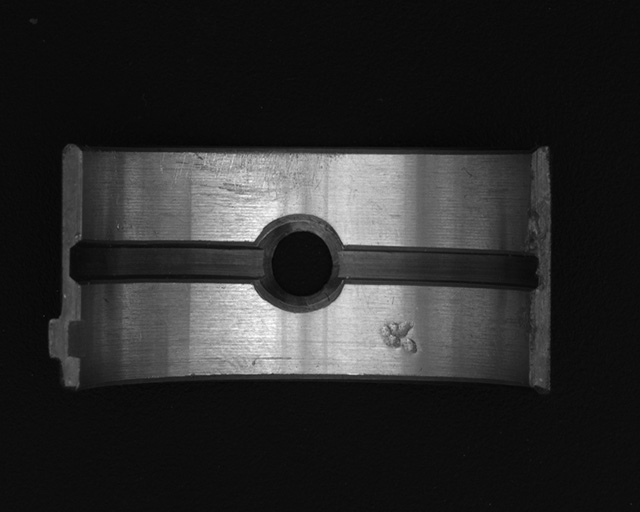bruise: (377, 320, 419, 355)
gap: (333, 244, 542, 296), (70, 240, 268, 285)
hole: (256, 215, 345, 313)
scratch: (158, 150, 347, 207)
